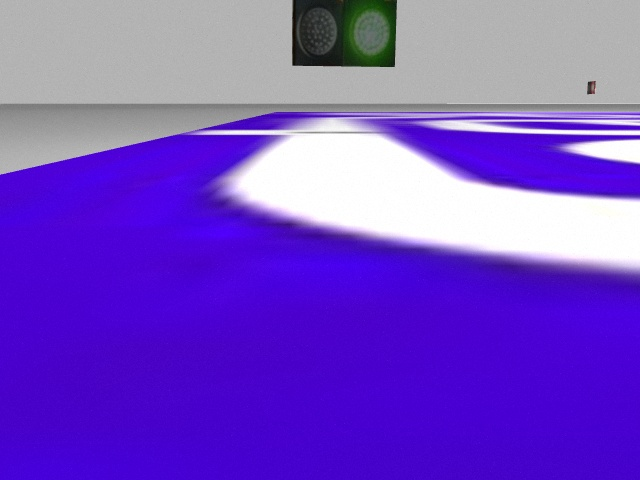green: (343, 1, 398, 63)
